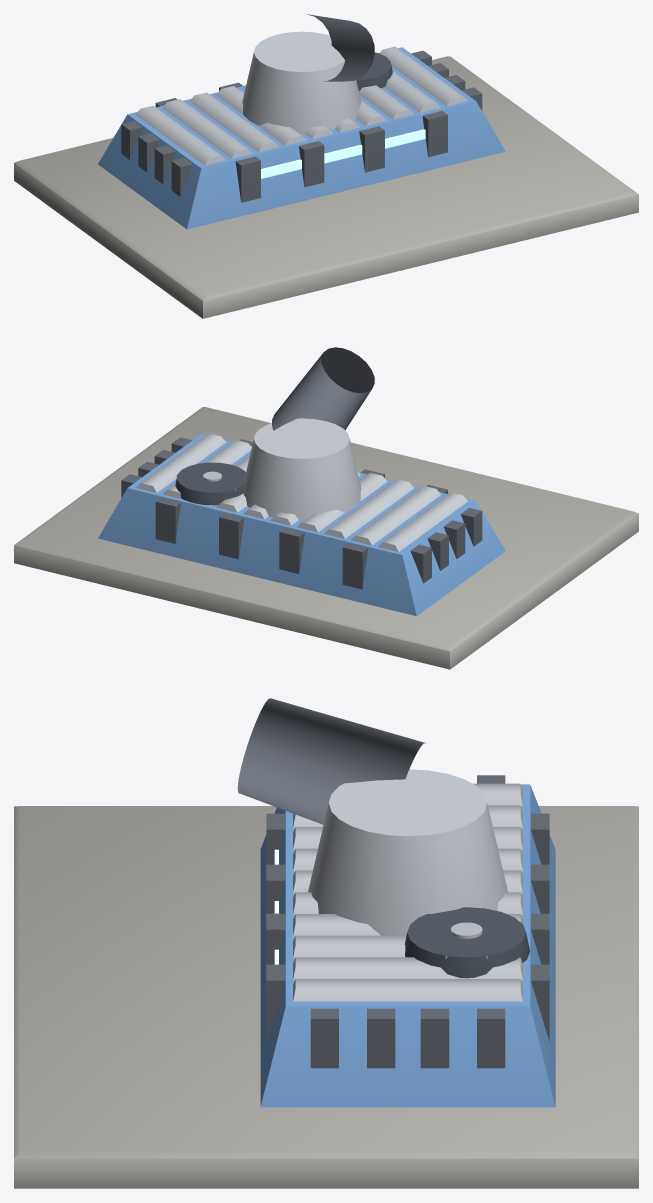
File: caoutp.glb
The picture shows the model from 3 angles, top to bottom: view 1: azimuth 30°, elevation 25°; view 2: azimuth 150°, elevation 25°; view 3: azimuth 270°, elevation 25°; orthographic projection. The views are drawn at different scales.
Visible parts, largest first — view 1: Hull, Turret; view 2: Turret, Hull; view 3: Hull, Turret.
Boxes of the visible parts, bbox=[...] form: Hull: bbox=[14, 56, 638, 318]; Turret: bbox=[98, 14, 505, 229]; Turret: bbox=[98, 347, 505, 616]; Hull: bbox=[14, 407, 638, 669]; Hull: bbox=[14, 806, 638, 1188]; Turret: bbox=[237, 698, 555, 1107].
Size of the model in its own units: 6.62 by 2.72 by 4.97.
